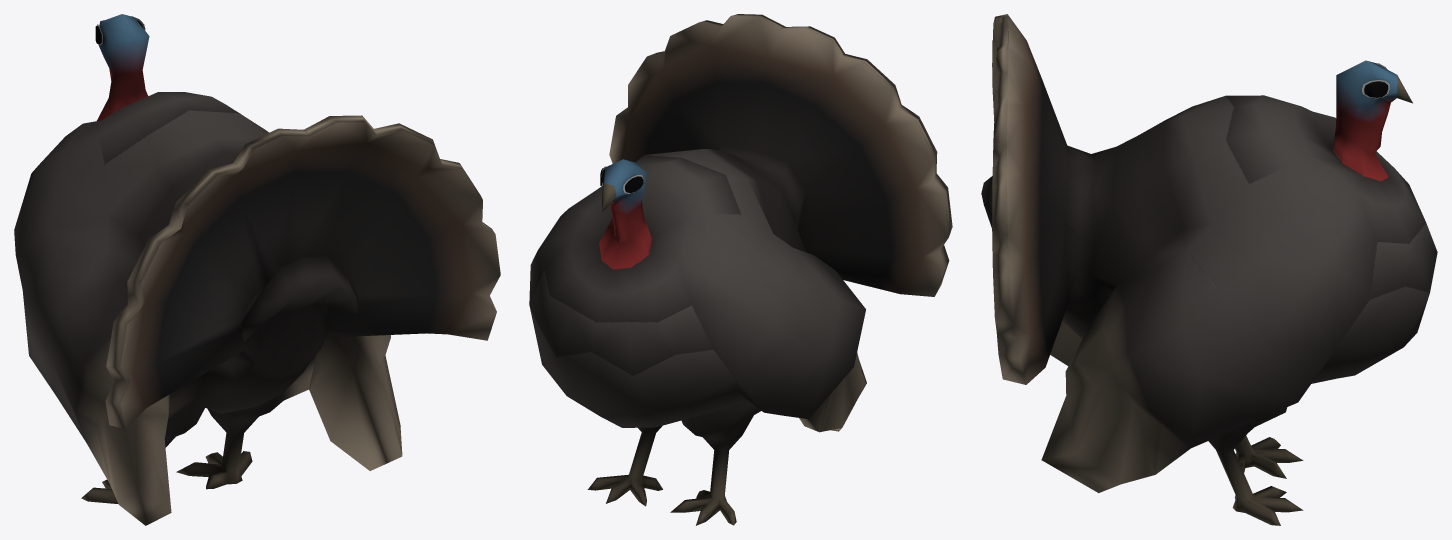
The model's file is turkey.obj.
3 renders of one model, left to right at view 1: azimuth 30°, elevation 25°; view 2: azimuth 150°, elevation 25°; view 3: azimuth 270°, elevation 25°, orthographic. The views are drawn at different scales.
Visible parts, largest first — view 1: base.144_Mesh.242; view 2: base.144_Mesh.242; view 3: base.144_Mesh.242.
Boxes of the visible parts, bbox=[...] form: base.144_Mesh.242: bbox=[14, 14, 500, 525]; base.144_Mesh.242: bbox=[529, 14, 952, 525]; base.144_Mesh.242: bbox=[981, 14, 1437, 525].
Size of the model in its own units: 0.5305 by 0.5932 by 0.5458.
1 material, 1 textured.
